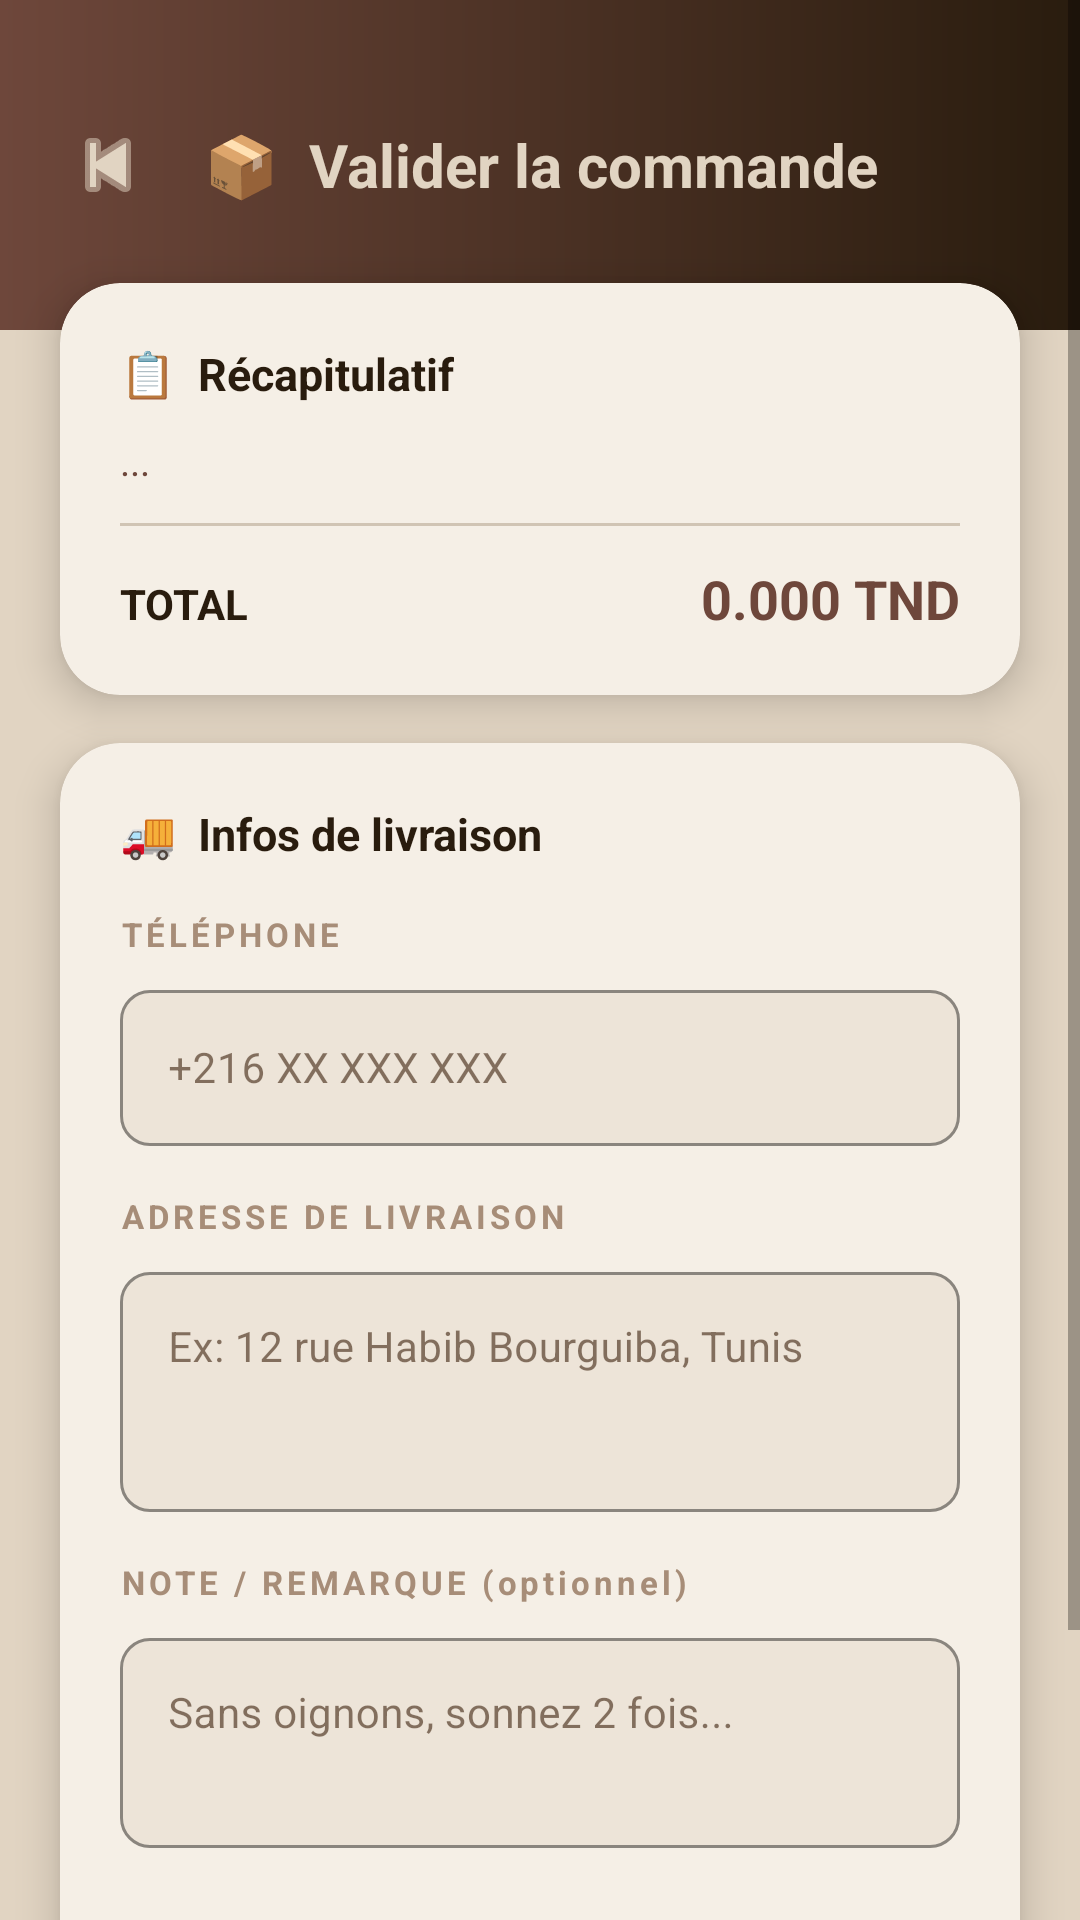

Icons on this 1080px x 1920px Android screen, each with the point to tap as point (x, y):
previous: point (108, 165)
